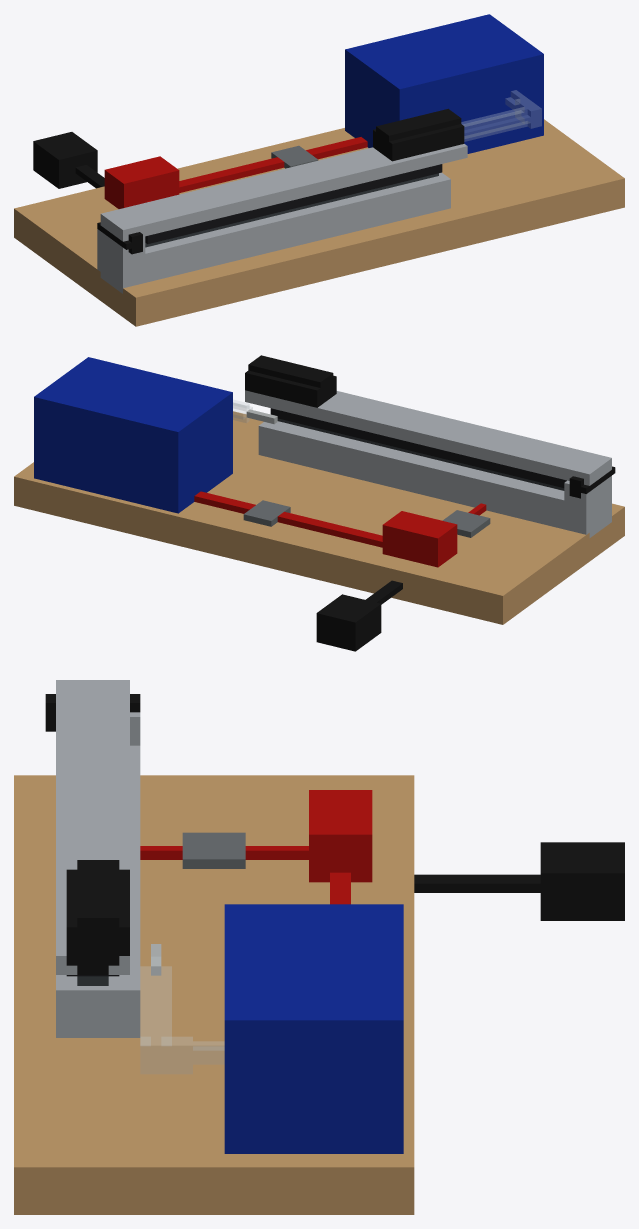
Rendered from makeshift_sealer.glb.
The picture shows the model from 3 angles, top to bottom: view 1: azimuth 30°, elevation 25°; view 2: azimuth 150°, elevation 25°; view 3: azimuth 270°, elevation 25°; orthographic projection. The views are drawn at different scales.
Visible parts, largest first — view 1: makeshift_sealer:compound; view 2: makeshift_sealer:compound; view 3: makeshift_sealer:compound.
Boxes of the visible parts, left/top/right/bottom form: makeshift_sealer:compound: left=14, top=14, right=624, bottom=326; makeshift_sealer:compound: left=14, top=355, right=624, bottom=651; makeshift_sealer:compound: left=14, top=680, right=624, bottom=1214.
Size of the model in its own units: 0.352 by 0.076 by 0.232.
